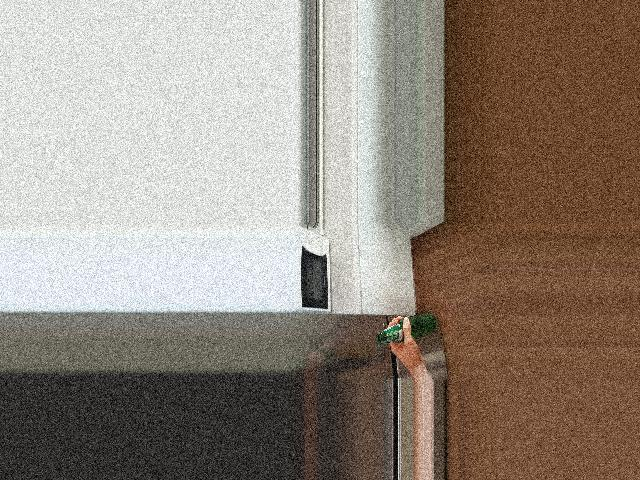beer: (377, 313, 436, 344)
